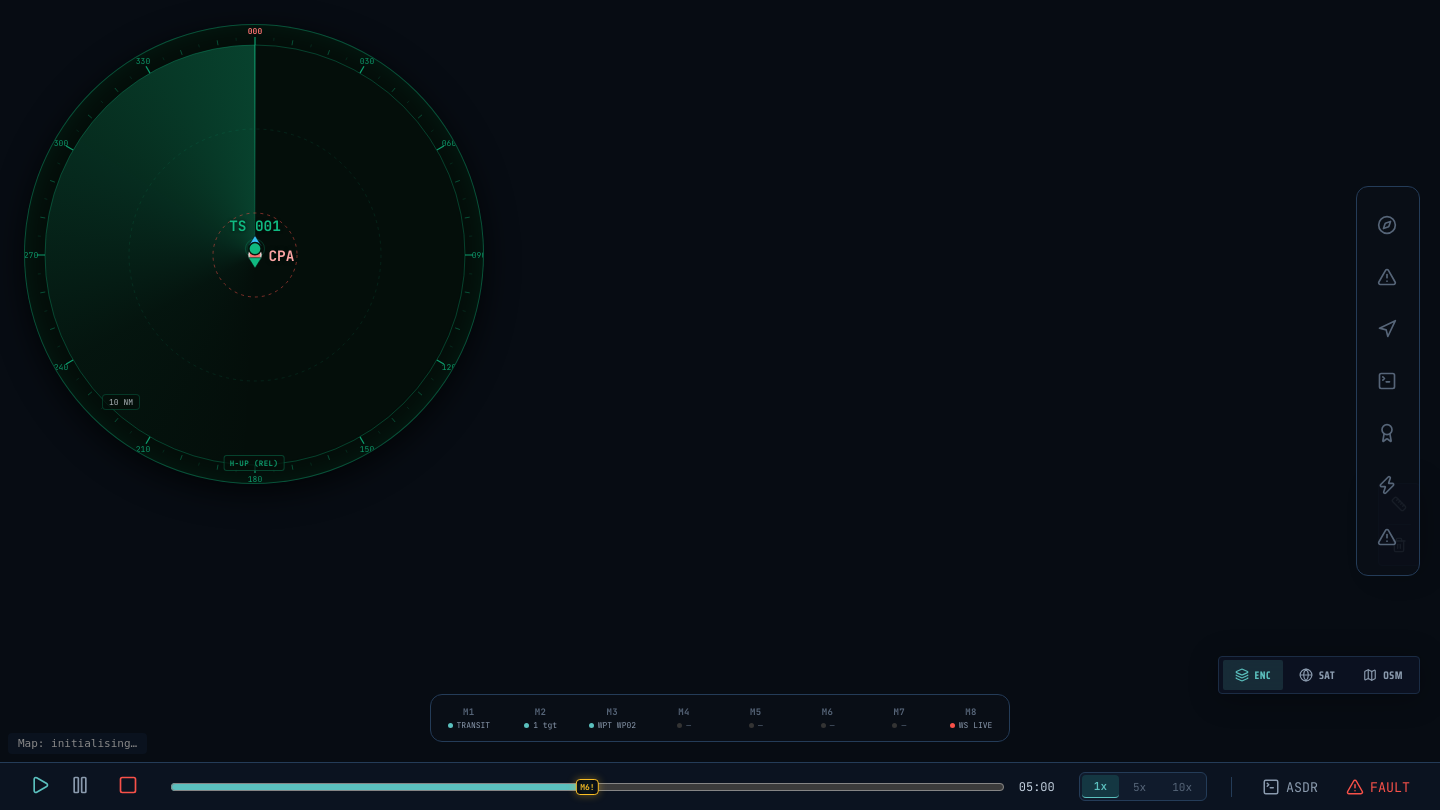
Test: SimulationMonitor › displays CPA and TCPA from M2 world-state target metrics
Step 1. Click the button with test id "right-tab-threat" → click(1388, 277), box [1366,255,1410,299]
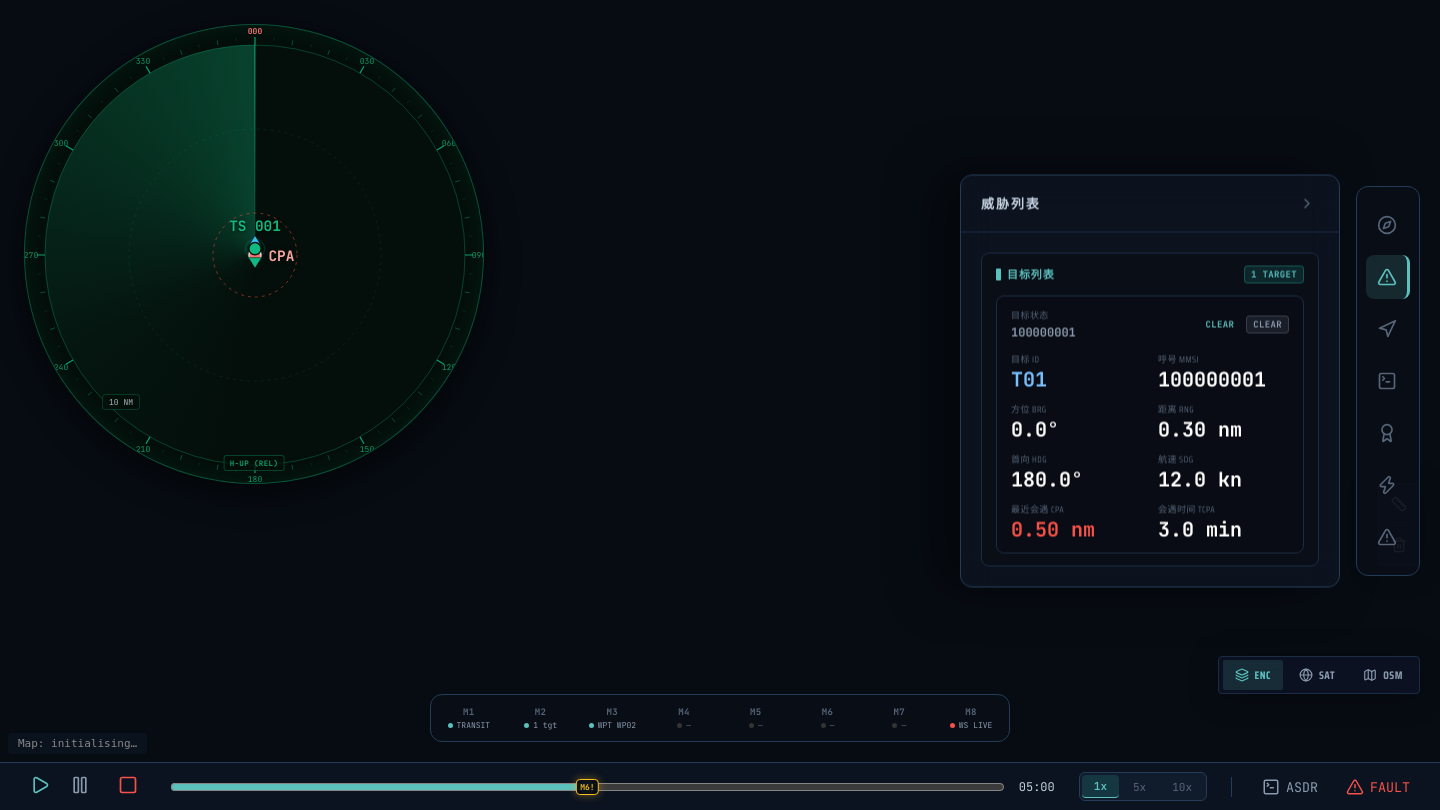
expect the text "最近会遇 CPA" is shown: met, box [1011,502,1064,516]
expect the text with test id "threat-cpa" reads "0.50 nm": met, box [1011,516,1095,542]
expect the text "会遇时间 TCPA" is shown: met, box [1158,502,1215,516]
